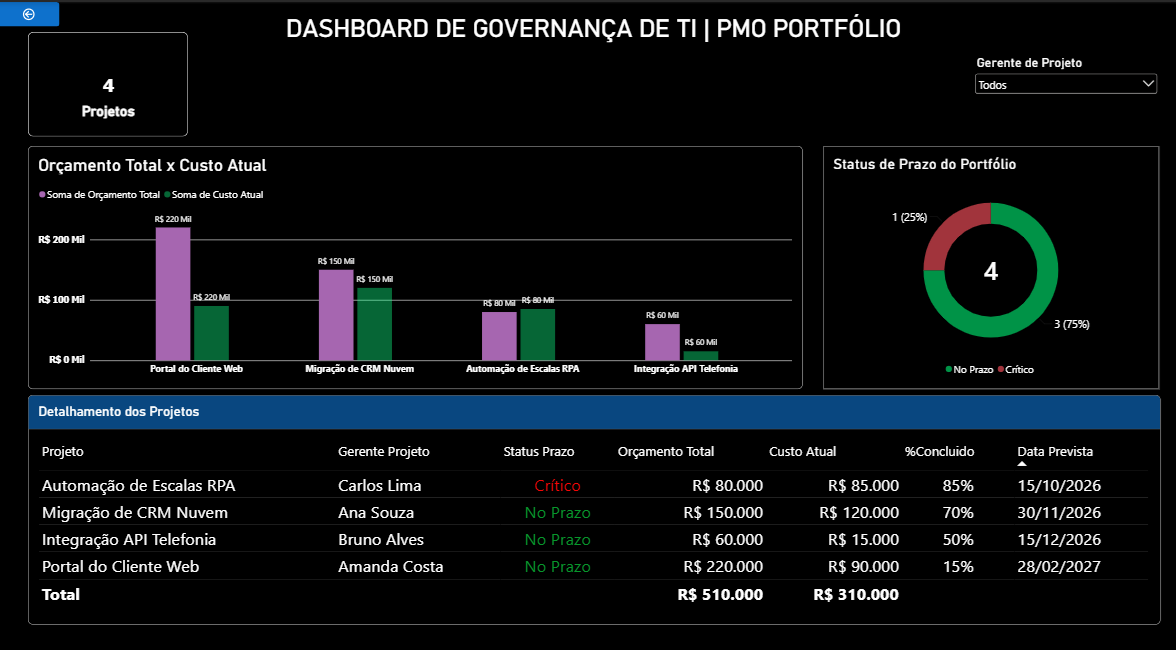

This screenshot's page, from the dashboard's own definition file:
{"tool":"powerbi","page":{"name":"Página 2","canvas":[1920,1080],"ordinal":1},"visuals":[{"type":"tableEx","title":"Detalhamento dos Projetos","fields":{"Values":["tb_Projetos.Nome_Projeto","tb_Projetos.Gerente_Projeto","Status_Atual.Status_Prazo","Sum(tb_Projetos.Orcamento_Total)","Sum(tb_Projetos.Custo_Atual)","Status_Atual.%Concluido","tb_Projetos.Data_Fim_Planejada"]},"box":[50,640,1840,440],"z":0},{"type":"actionButton","box":[0,0,100,40],"z":1000},{"type":"slicer","fields":{"Values":["tb_Projetos.Gerente_Projeto"]},"box":[1582.5,85,307.5,97.5],"z":2000},{"type":"textbox","title":"     DASHBOARD DE GOVERNANÇA DE TI | PMO PORTFÓLIO","box":[468.4,19.5,1146.7,65.9],"z":3000},{"type":"clusteredColumnChart","title":" Orçamento Total x  Custo Atual","fields":{"Category":["tb_Projetos.Projeto"],"Y":["Sum(tb_Projetos.Orçamento Total)","Sum(tb_Projetos.Custo Atual)"]},"box":[50,235,1260,395],"z":4000},{"type":"cardVisual","title":"Projetos no portfólio","fields":{"Data":["Count(tb_Projetos.ID_Projeto)"]},"box":[50,50,260,170],"z":5000},{"type":"donutChart","title":"Status de Prazo do Portfólio","fields":{"Category":["Status_Atual.Status_Prazo"],"Y":["CountNonNull(Status_Atual.ID_Projeto)"]},"box":[1341.9,234.2,546.5,395.3],"z":6000},{"type":"textbox","title":"Projetos","box":[137.5,162.5,155,37.5],"z":7000}]}

Visuals, with their boxes on the page's 1920x1080 design canvas (x1, y1, x2, y2). These are canvas units, not pixel positions in the 1176x650 screenshot, which may show the page scaled, cropped or inside an application window:
"Detalhamento dos Projetos" tableEx: region(50, 640, 1890, 1080)
actionButton: region(0, 0, 100, 40)
slicer - tb_Projetos.Gerente_Projeto: region(1582, 85, 1890, 182)
"     DASHBOARD DE GOVERNANÇA DE TI | PMO PORTFÓLIO" textbox: region(468, 20, 1615, 85)
" Orçamento Total x  Custo Atual" clusteredColumnChart: region(50, 235, 1310, 630)
"Projetos no portfólio" cardVisual: region(50, 50, 310, 220)
"Status de Prazo do Portfólio" donutChart: region(1342, 234, 1888, 630)
"Projetos" textbox: region(138, 162, 292, 200)
